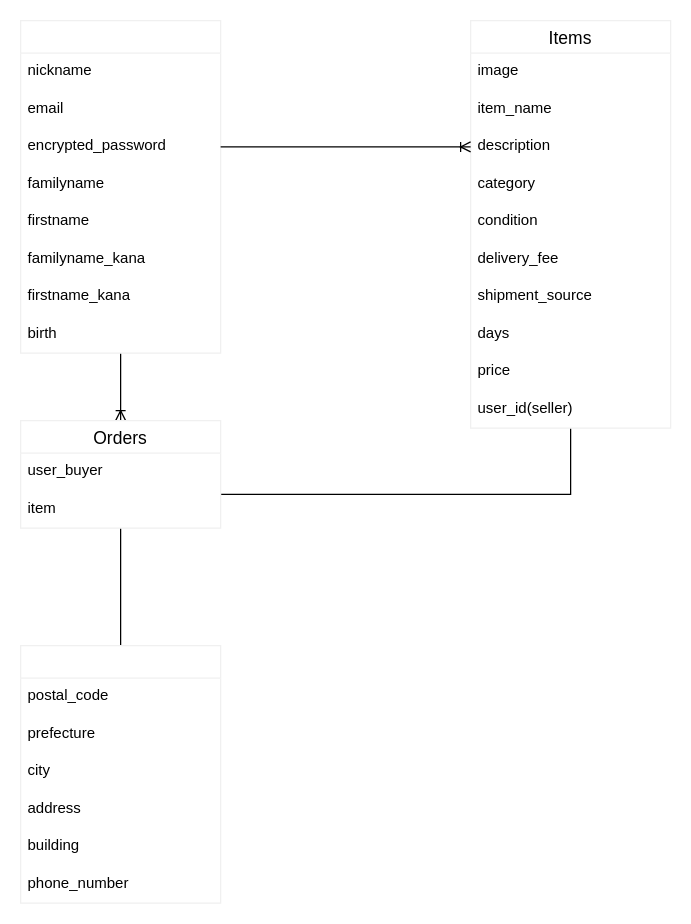
Image size: 691x924. Some labels were removed from this diagram. The shapes that lost their labels are listed below. From the top down, each one's box as (x1, y1, x2, y2) in pixels, then its label:
(19, 19, 221, 353): Users
(19, 644, 221, 903): Addresses
